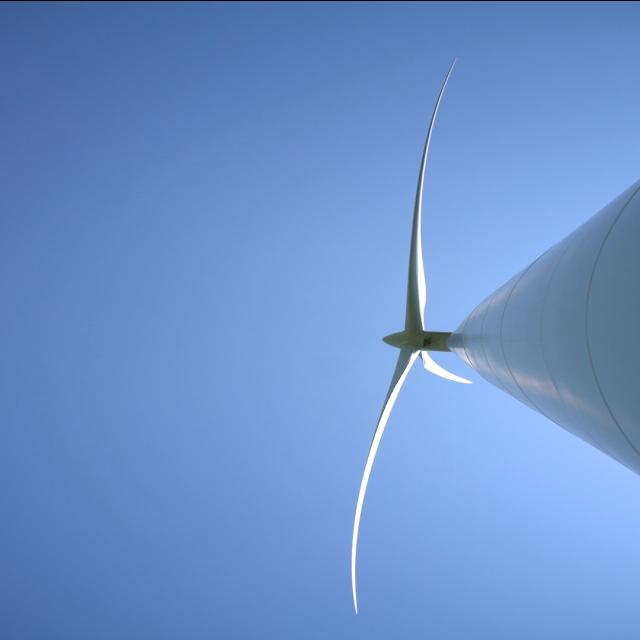blade 1: (340, 384, 390, 612)
blade 2: (394, 77, 452, 306)
blade 3: (420, 357, 476, 413)
